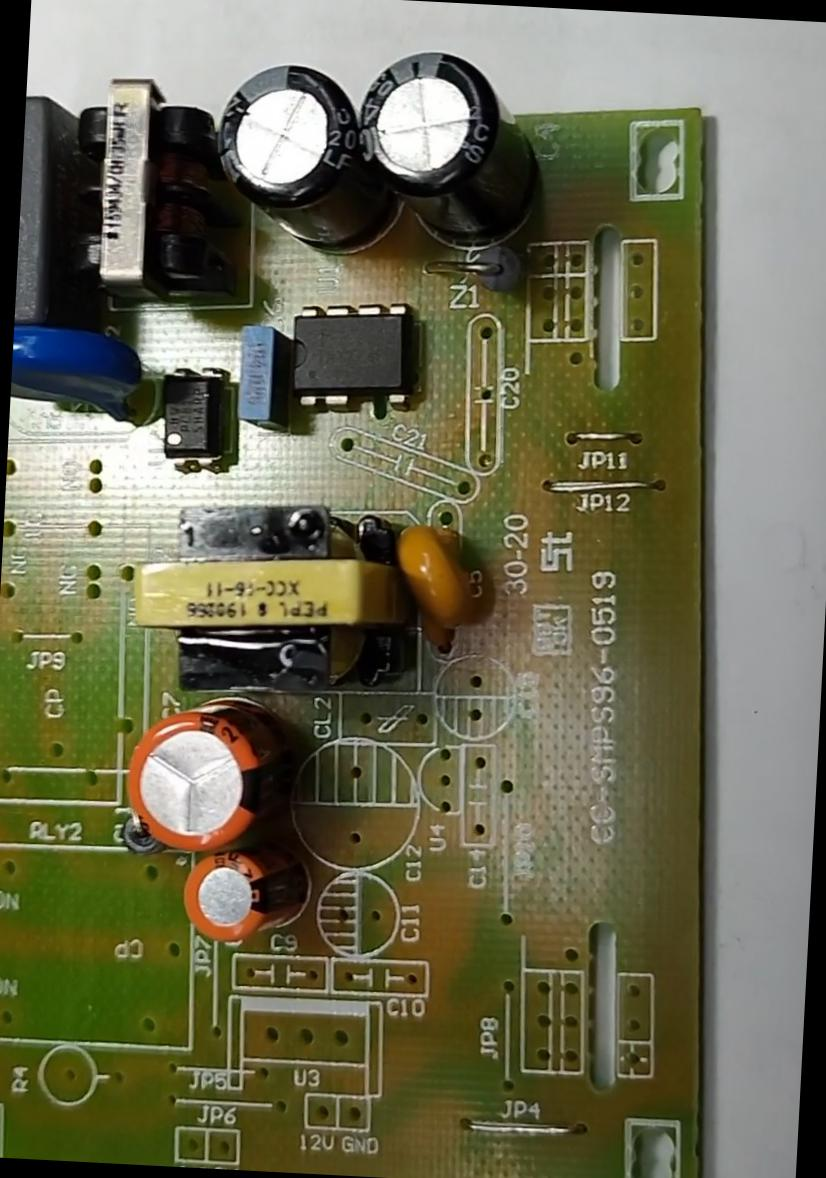Cap1: (126, 700, 296, 846)
Cap2: (180, 846, 307, 939)
Cap3: (209, 60, 366, 244)
Cap4: (355, 46, 550, 246)
MOSFET: (288, 297, 414, 406)
Mov: (10, 322, 142, 418)
Transformer: (122, 496, 408, 692), (64, 76, 235, 309)
